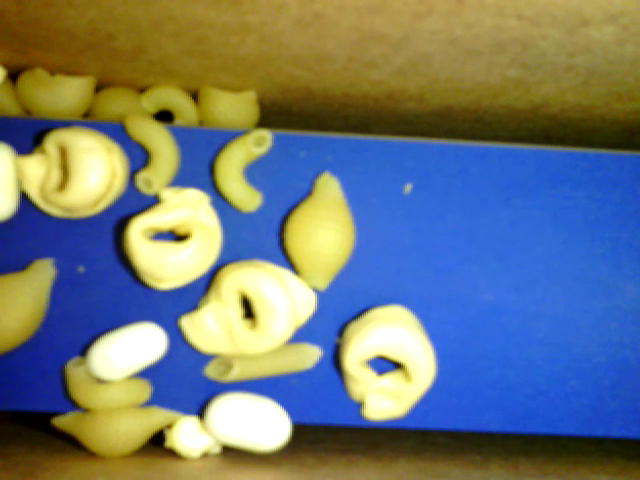elbow: (211, 128, 273, 211), (64, 357, 151, 411), (126, 114, 180, 195), (140, 84, 196, 126)
penne: (202, 344, 322, 382)
shell: (281, 170, 357, 289), (52, 405, 180, 458), (1, 257, 57, 352), (13, 66, 97, 122), (197, 83, 260, 129), (88, 87, 150, 123)
tortellini: (178, 259, 317, 356), (339, 303, 437, 421), (13, 124, 130, 219), (123, 186, 221, 291)
